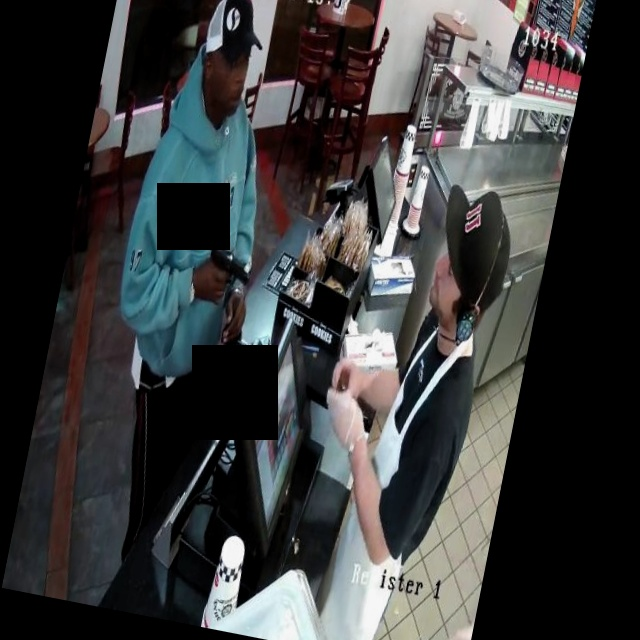gun: (186, 215, 271, 321)
